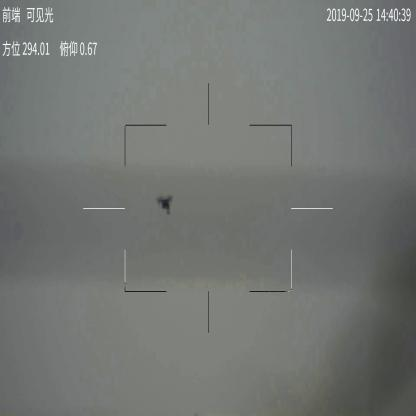uav: (153, 192, 177, 218)
